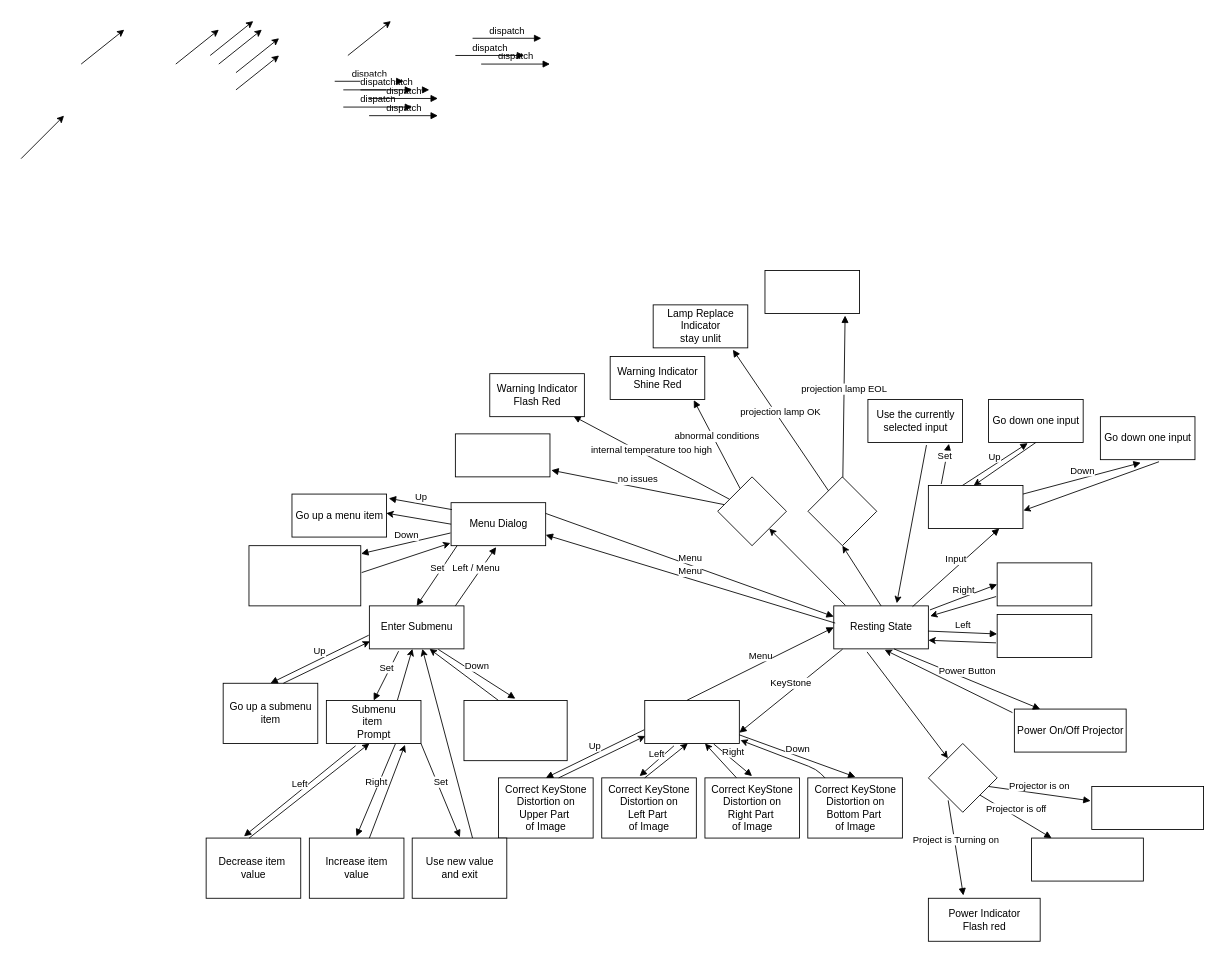
Some shapes in this 1219 by 956 pixel diagram are drawn without their labels. Here are the shapes that lost their labels. From the top down, the centre of each, then its label:
At [812,291]: "Lamp Replace Indicator Shine Yellow".
At [502,455]: "Warning Indicator stay unlit".
At [975,506]: "Input Source Dialog".
At [304,575]: "Go down a menu Item".
At [1044,584]: "Volumn Up".
At [1044,635]: "Volumn Down".
At [515,730]: "Go down a submenu item".
At [691,721]: "KeyStone Dialog".
At [1147,807]: "Power Indicator Shine Green".
At [1087,859]: "Power Indicator Shine Red".
